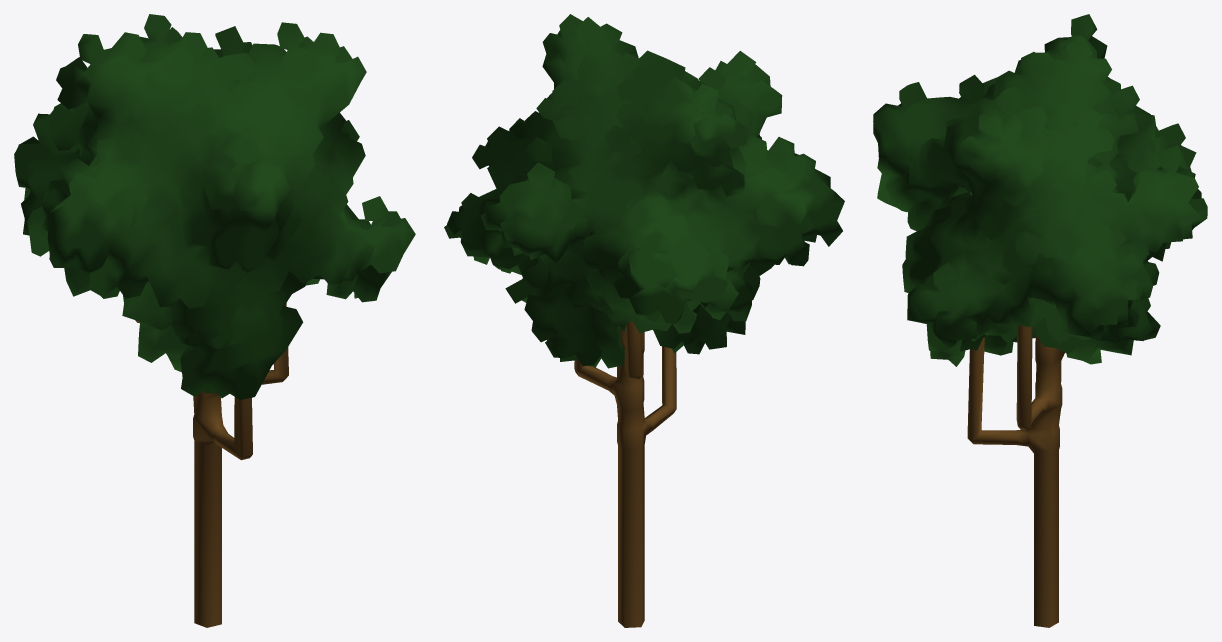
The model's file is cartoon_tree.glb.
3 renders of one model, left to right at view 1: azimuth 30°, elevation 25°; view 2: azimuth 150°, elevation 25°; view 3: azimuth 270°, elevation 25°, orthographic. The views are drawn at different scales.
Visible parts, largest first — view 1: Foliage_0; view 2: Foliage_0; view 3: Foliage_0.
Boxes of the visible parts, x1,y1,x2,y2 form: Foliage_0: (14,14,415,627); Foliage_0: (444,14,844,627); Foliage_0: (873,14,1207,627).
Bounding box in the file's own units: 2.8 × 4.66 × 2.49.
